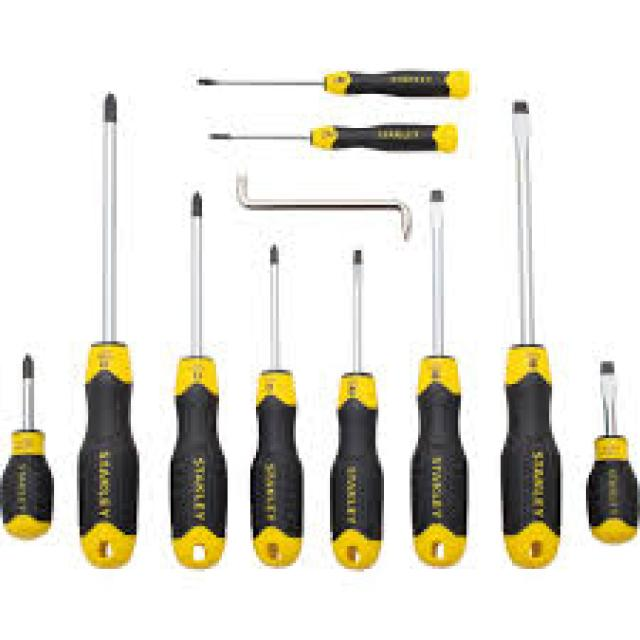screw driver: (483, 83, 572, 570), (157, 177, 254, 586), (77, 80, 154, 576), (408, 166, 487, 570), (321, 232, 398, 588), (248, 229, 316, 579), (181, 56, 488, 115), (569, 333, 640, 559), (193, 108, 467, 164), (0, 330, 66, 550)
